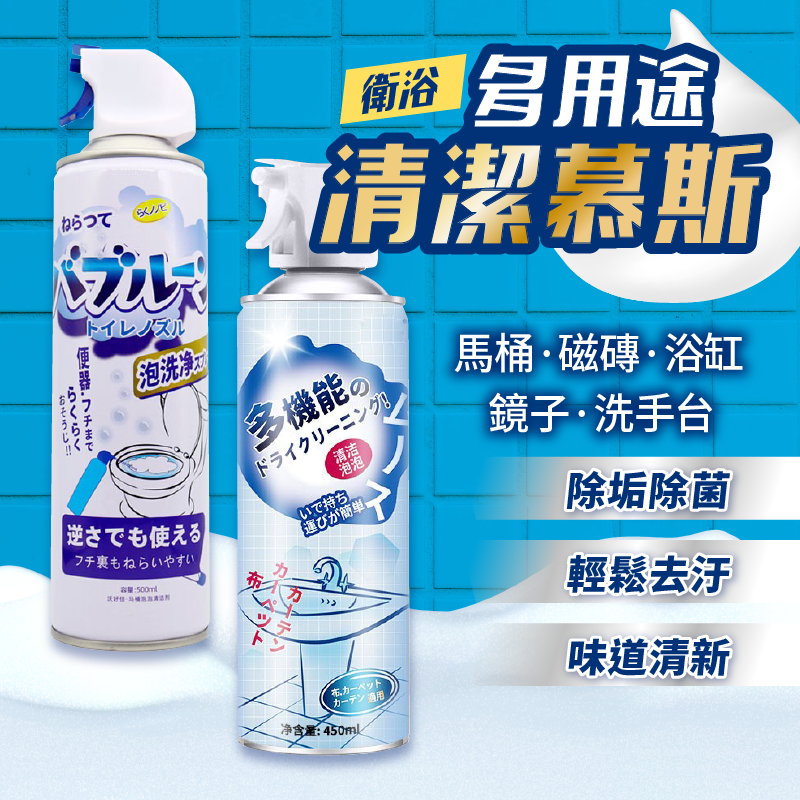cleaner: (34, 42, 220, 656), (233, 154, 422, 758)
